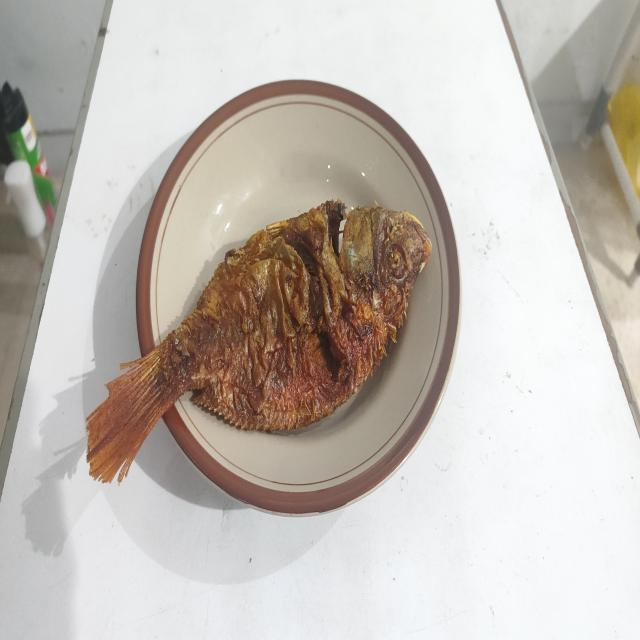ikan_mujair: (86, 199, 431, 482)
